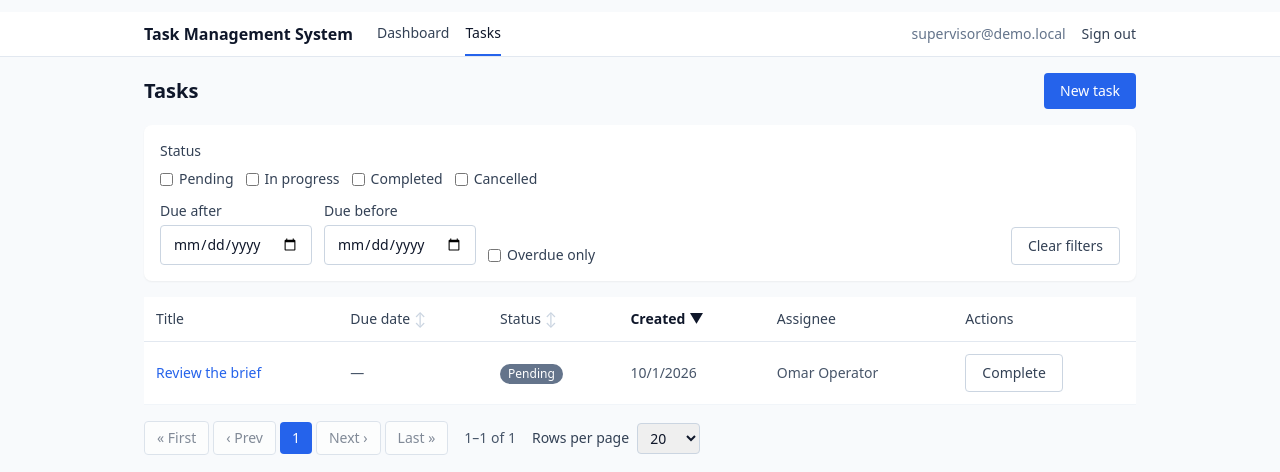
Test: TaskListPage › completes a task inline and refreshes the list
Click the button "Complete" at (1014, 373), box top-left (965, 354), bottom-right (1063, 392)
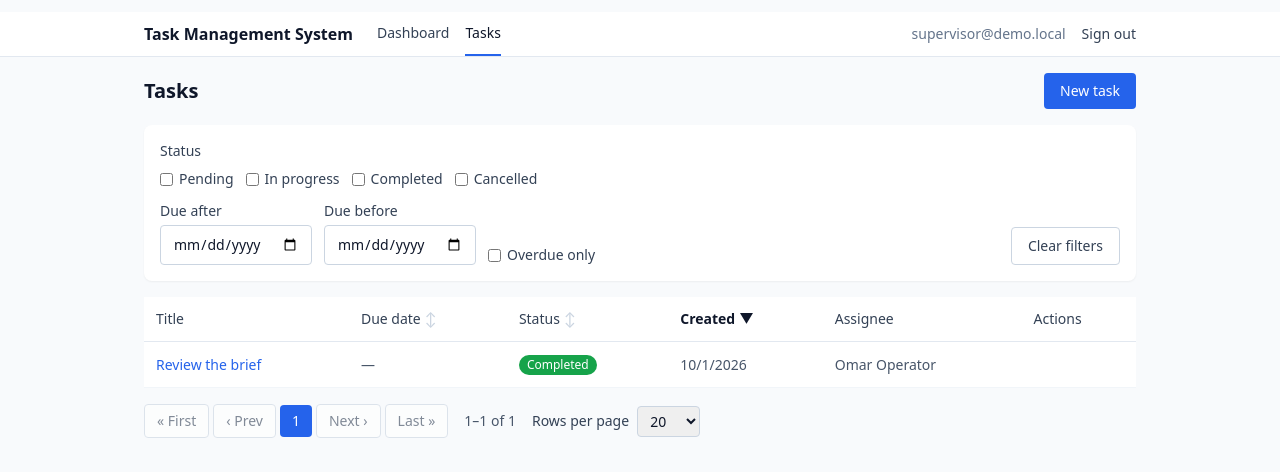
Check: the text "Completed" is shown, box top-left (519, 355), bottom-right (597, 375)
